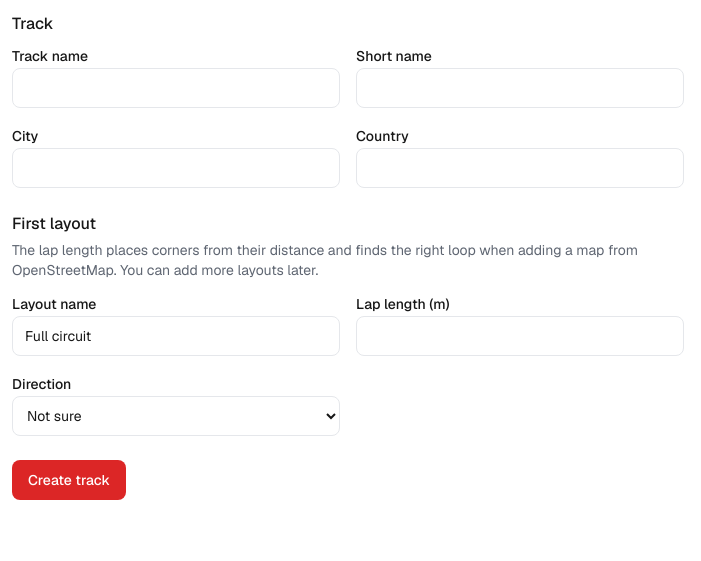
Test: NewTrackForm › shows why creating failed
Type "Kart track" into the field labelled "Track name" at (176, 88), box [12,68,340,108]
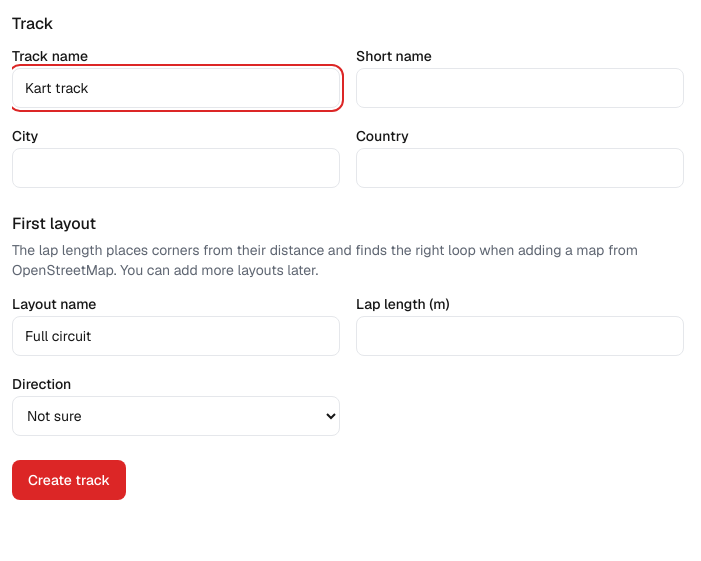
Click the button "Create track" at (69, 480), box [12,460,126,500]
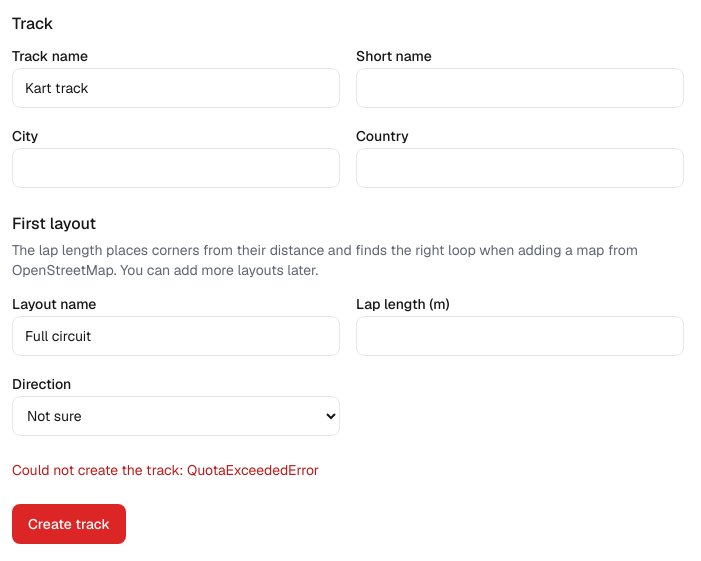
Now the message reads "Could not create the track: QuotaExceededError", box [12,461,319,479]
